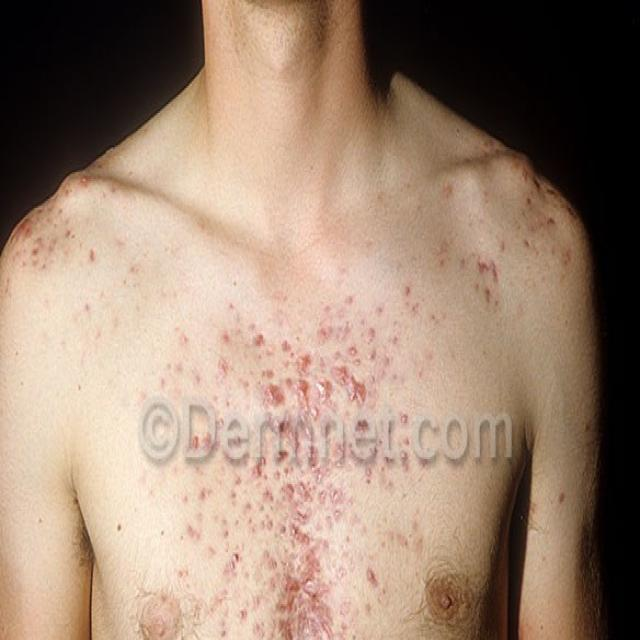Acne: (133, 285, 457, 640), (1, 209, 161, 307), (515, 150, 574, 293), (463, 223, 506, 336)
